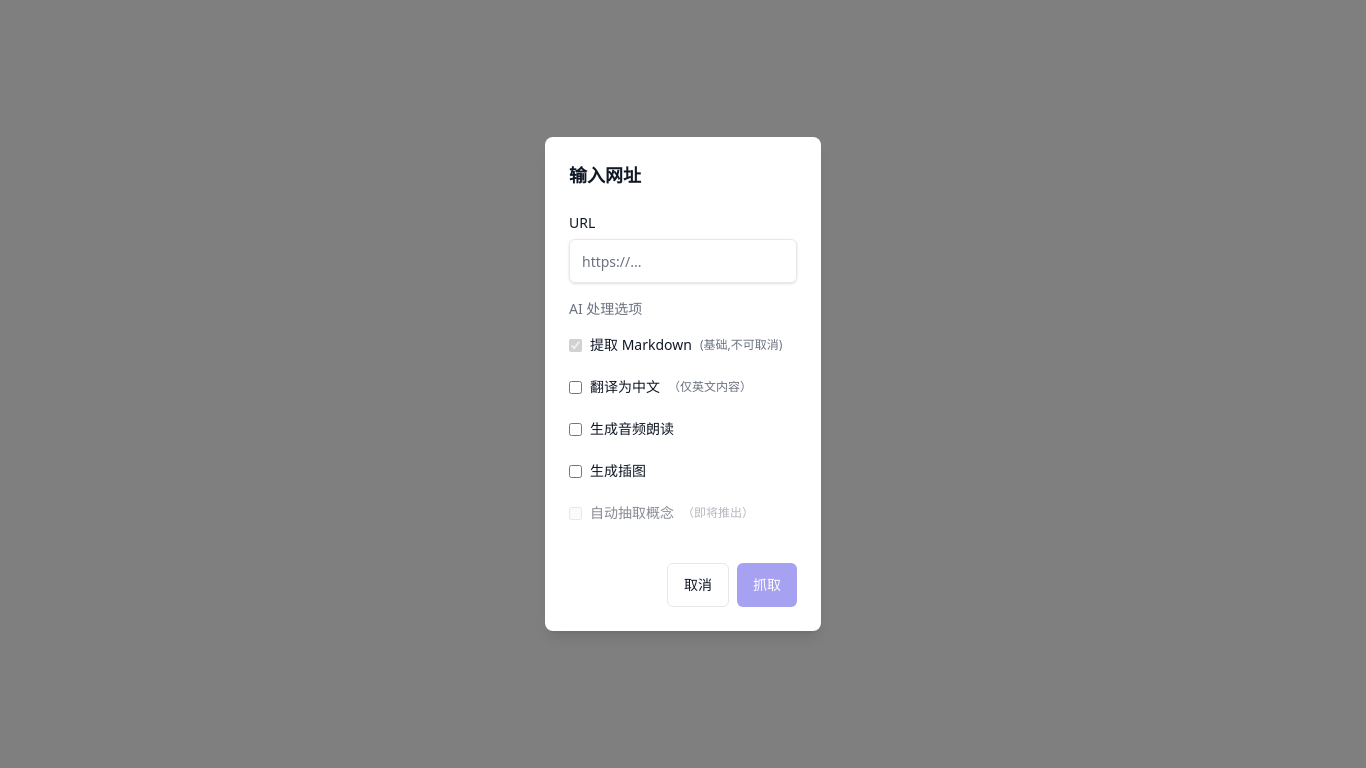
Test: UrlIngestDialog › fetch button enabled when URL filled
In the field with placeholder "https://...": (683, 261) top-left (569, 239), bottom-right (797, 283), type "https://example.com"
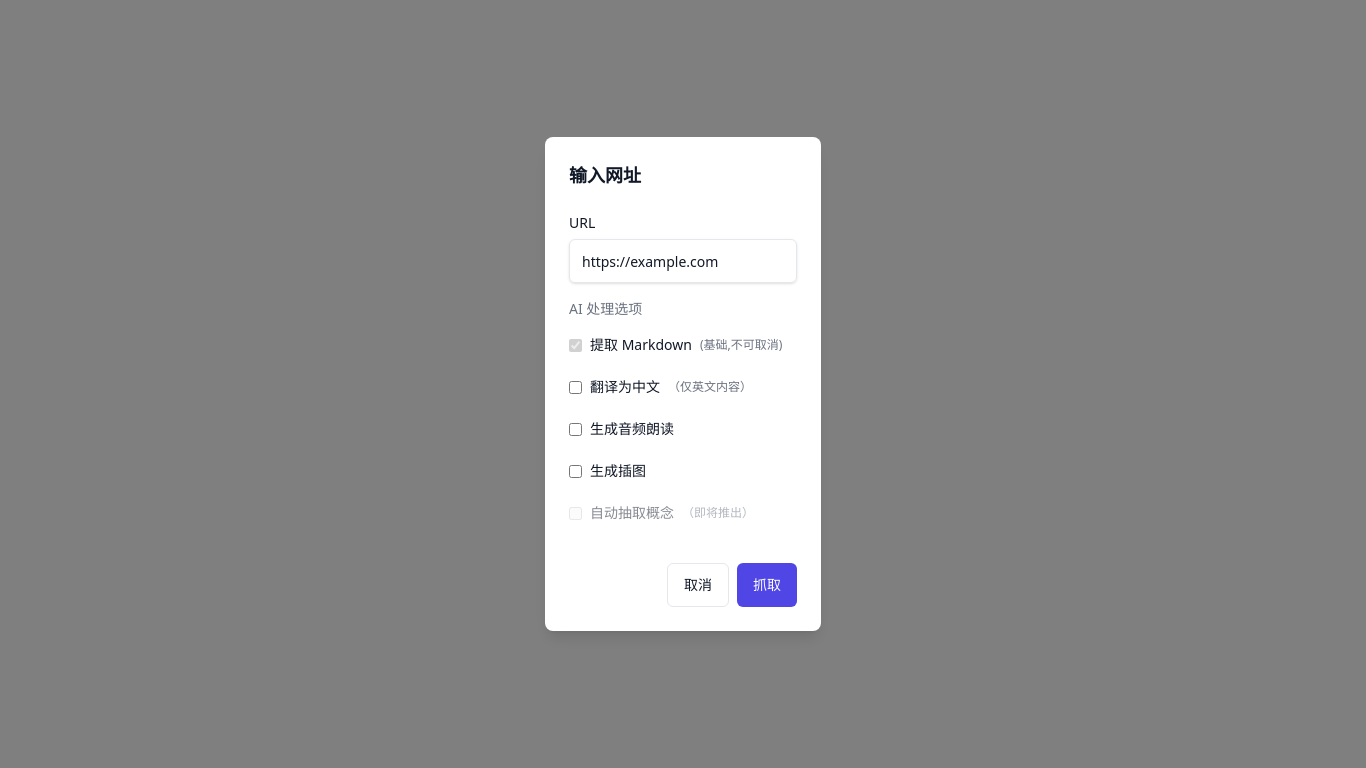
expect the button "抓取" is enabled: met, box top-left (737, 563), bottom-right (797, 607)
